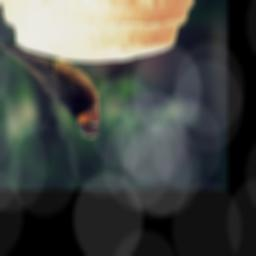Swallow: (0, 38, 102, 141)
